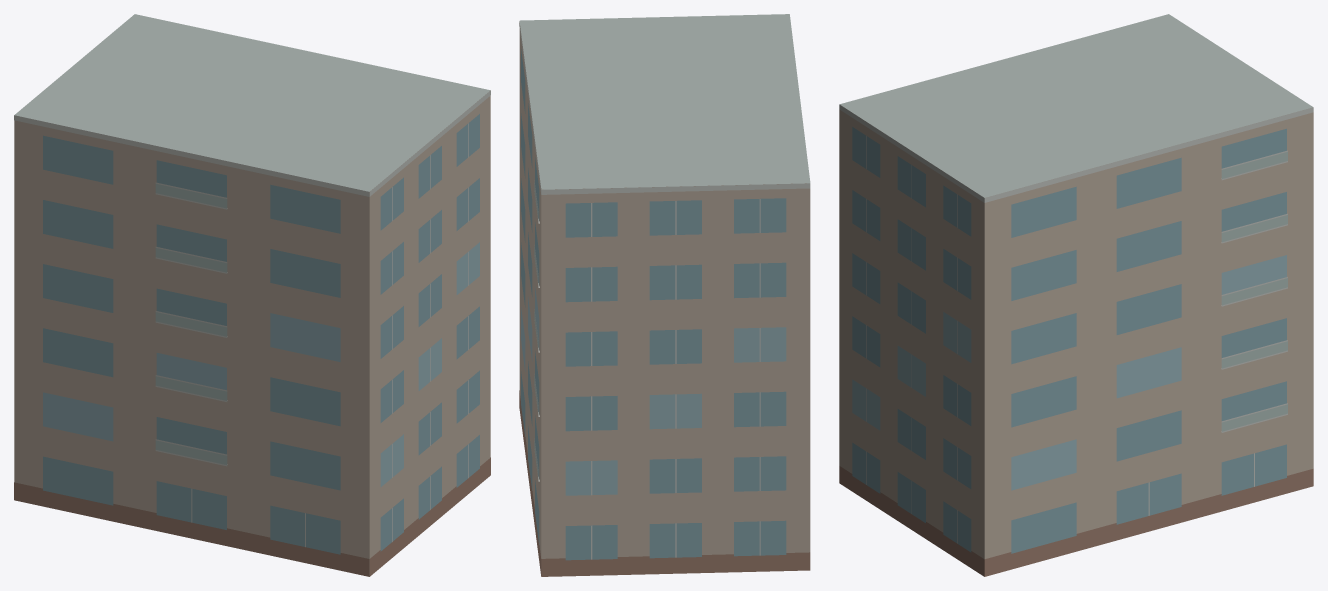
The model's file is survey-upis-32751815.glb.
3 renders of one model, left to right at view 1: azimuth 30°, elevation 25°; view 2: azimuth 150°, elevation 25°; view 3: azimuth 270°, elevation 25°, orthographic. The views are drawn at different scales.
Parts seen in each view (by area): view 1: survey-upis-32751815.tmp; view 2: survey-upis-32751815.tmp; view 3: survey-upis-32751815.tmp.
Boxes of the visible parts, x1,y1,x2,y2 form: survey-upis-32751815.tmp: (14, 14, 490, 576); survey-upis-32751815.tmp: (519, 14, 810, 576); survey-upis-32751815.tmp: (839, 14, 1313, 576).
Bounding box in the file's own units: 19.06 × 18.3 × 20.76.
